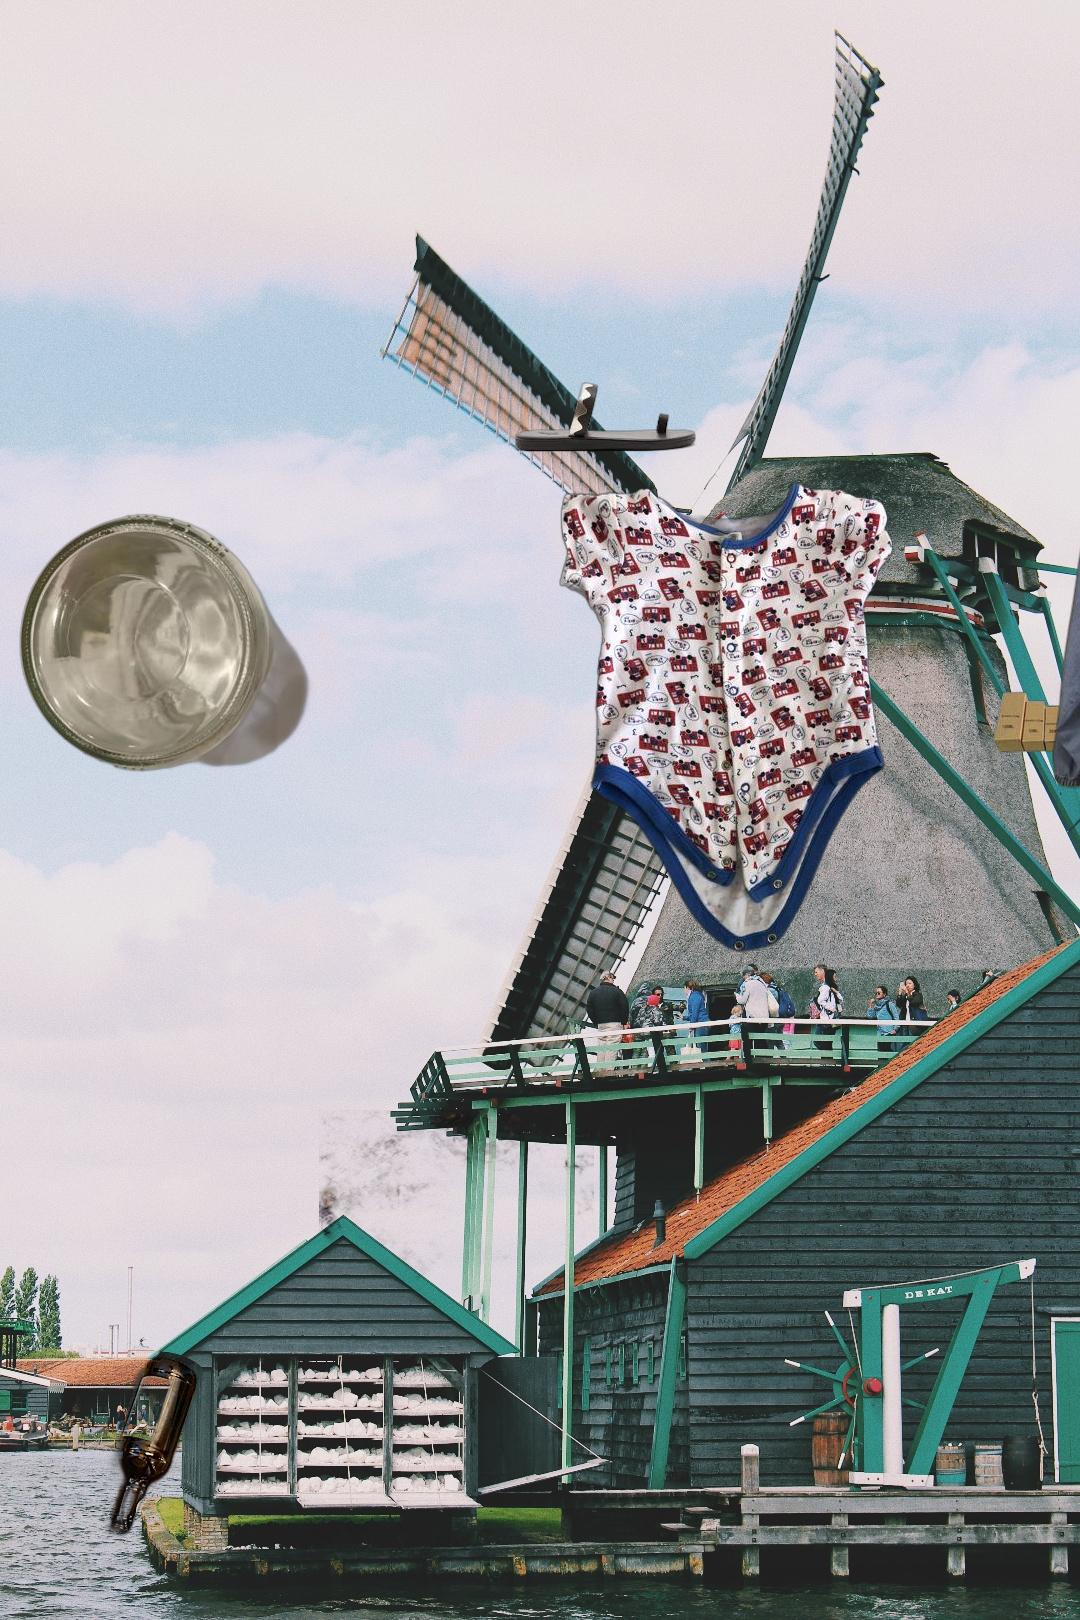biological: (319, 1110, 594, 1293)
clothes: (557, 477, 896, 957), (1050, 391, 1080, 918)
glass: (16, 511, 319, 775), (101, 1350, 202, 1540)
shoes: (513, 380, 697, 454)
trashbox-cardboard: (991, 689, 1080, 755)
